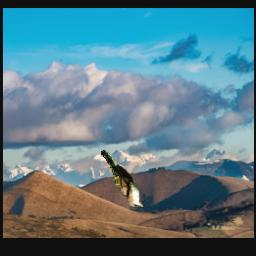Cuckoo: (102, 151, 146, 207)
